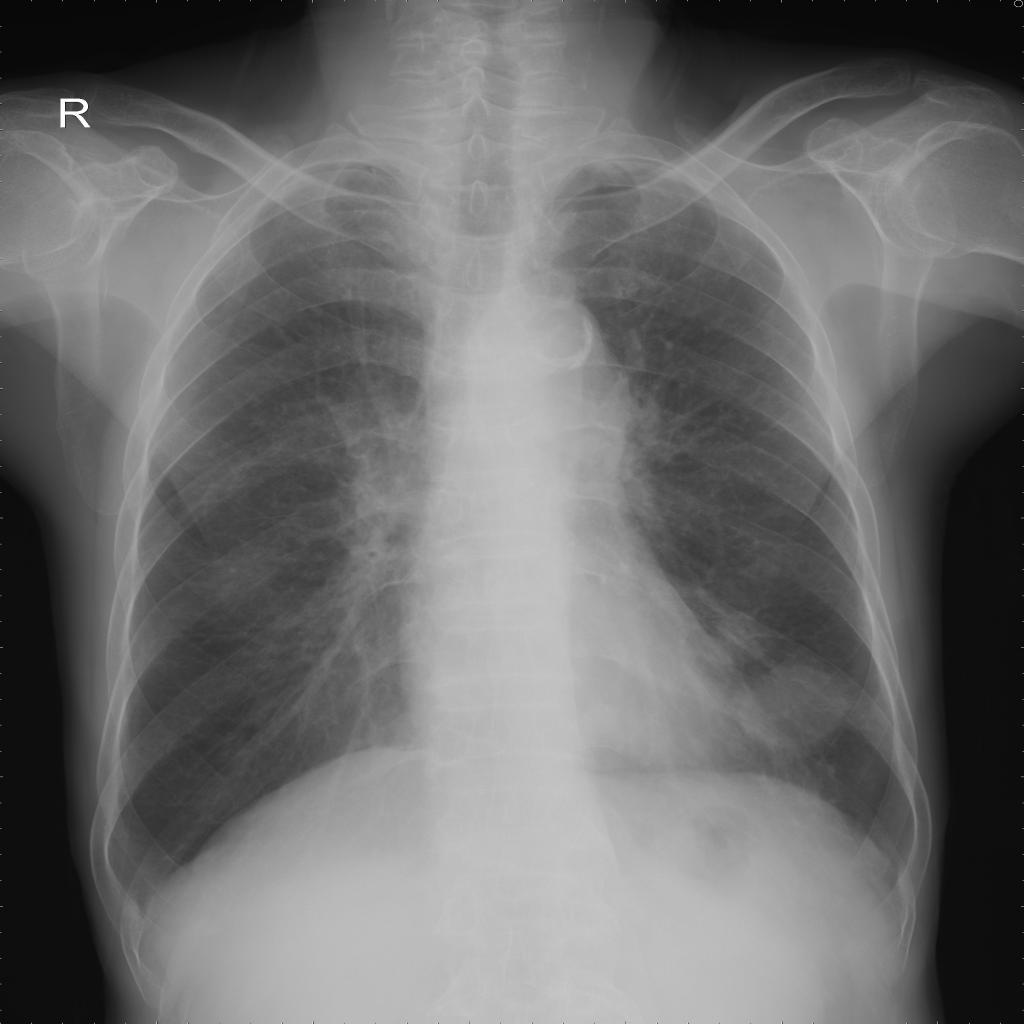Nodule: (732, 662, 850, 753), (715, 615, 779, 660)
